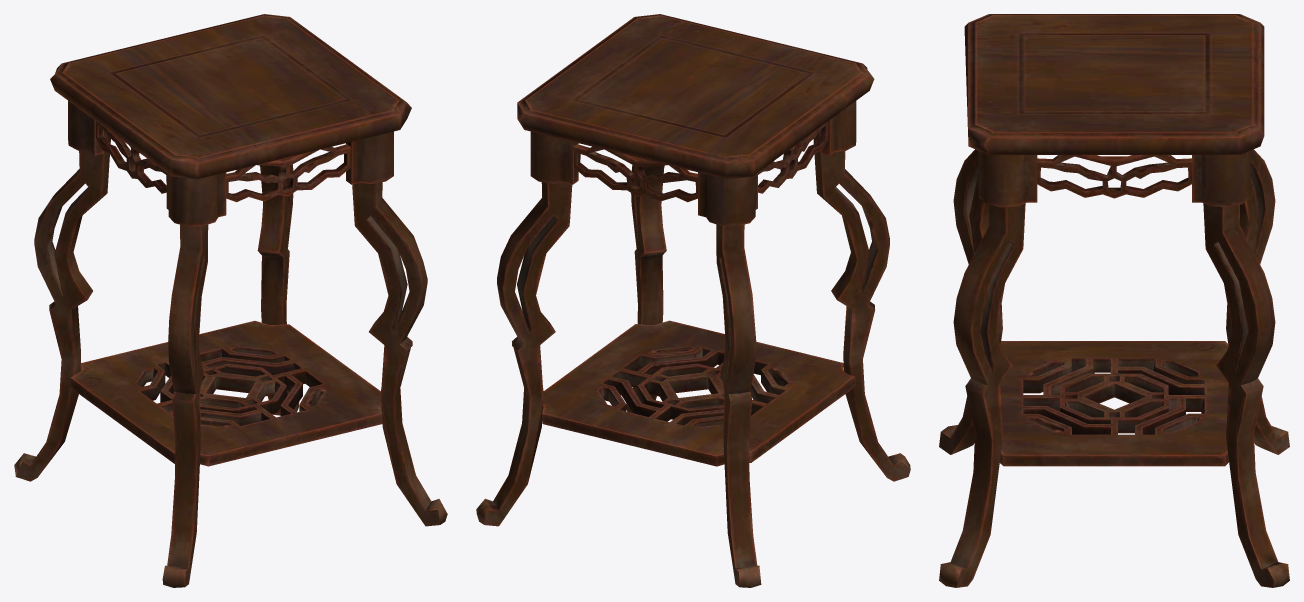
File: in_stool_plant.glb
The picture shows the model from 3 angles, left to right: view 1: azimuth 30°, elevation 25°; view 2: azimuth 150°, elevation 25°; view 3: azimuth 270°, elevation 25°; orthographic projection. The views are drawn at different scales.
Parts seen in each view (by area): view 1: Object_2; view 2: Object_2; view 3: Object_2.
Part boxes in pixels (box(x1,y1,x2,y2)): Object_2: box(14, 14, 447, 587); Object_2: box(476, 14, 910, 587); Object_2: box(939, 14, 1289, 587).
Size of the model in its own units: 0.649 by 0.8968 by 0.6432.
1 material, 1 textured.
